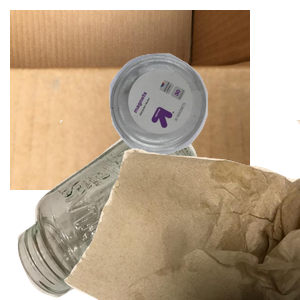cardboard: (10, 10, 250, 190)
glass: (15, 126, 229, 300)
plastic: (107, 51, 300, 199)
trash: (60, 120, 300, 300)
